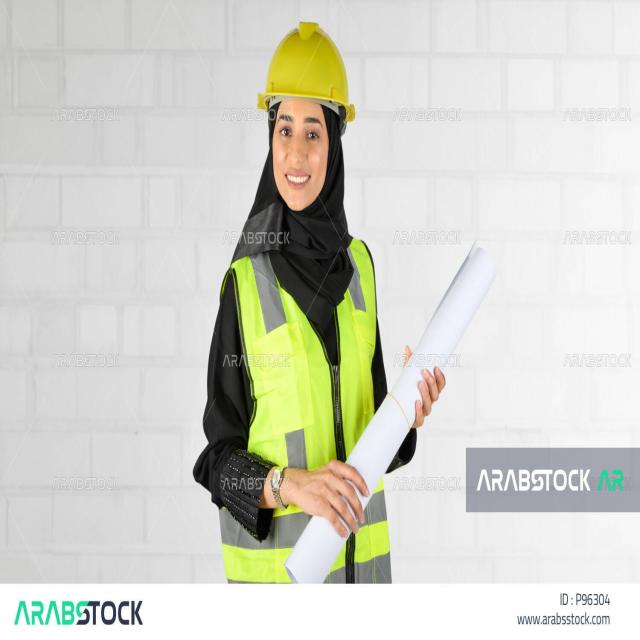helmet: (252, 18, 356, 132)
no-goggles: (278, 113, 324, 151)
vest: (225, 236, 395, 586)
